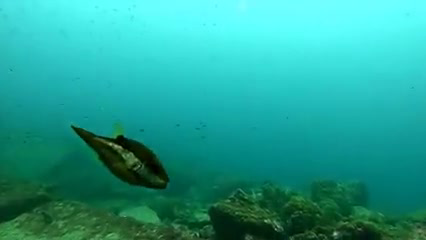hugu: (63, 121, 173, 201)
